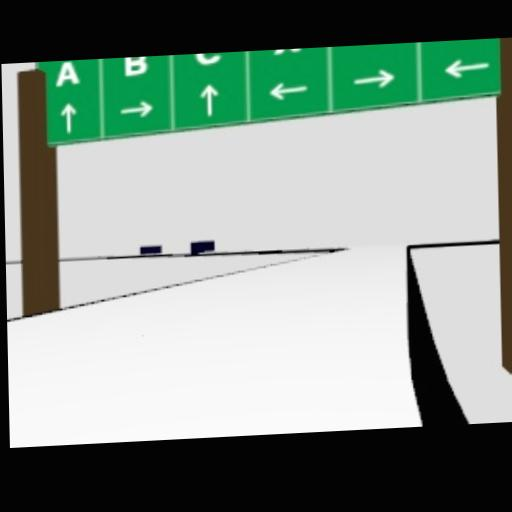A: (55, 60, 80, 87)
B: (124, 56, 147, 76)
C: (193, 53, 220, 64)
Left: (443, 59, 491, 79), (270, 81, 307, 100)
Right: (354, 69, 394, 90), (118, 98, 153, 118)
Straight: (60, 100, 78, 133), (199, 83, 218, 114)
X: (272, 49, 301, 55)
